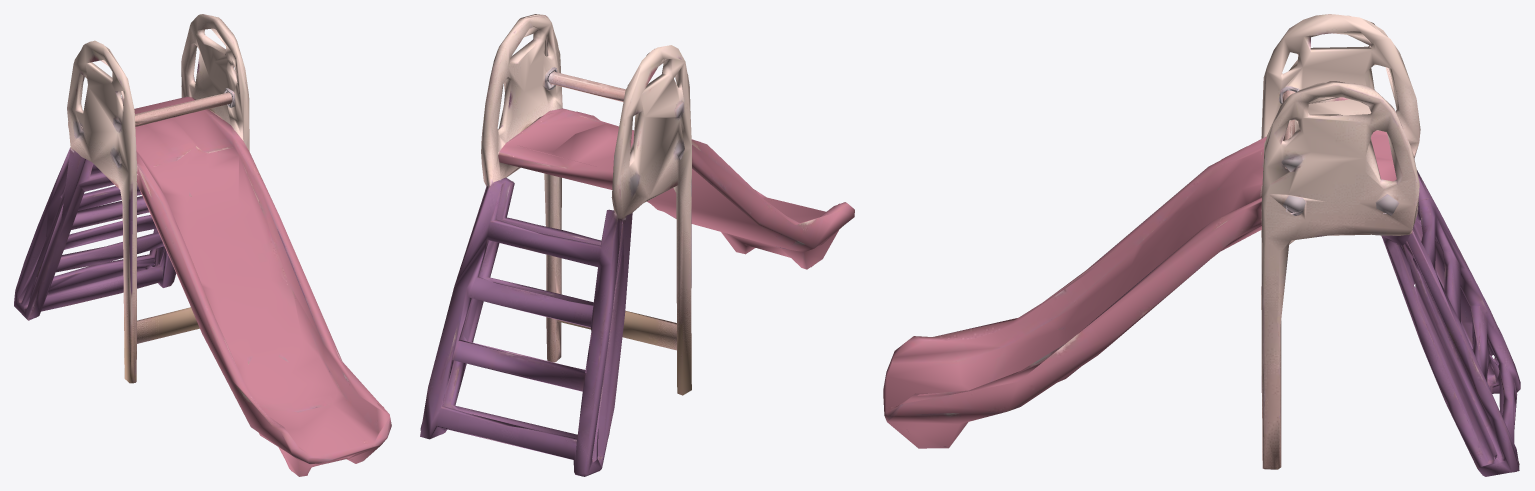
Rendered from pink-slide.glb.
3 renders of one model, left to right at view 1: azimuth 30°, elevation 25°; view 2: azimuth 150°, elevation 25°; view 3: azimuth 270°, elevation 25°, orthographic. The views are drawn at different scales.
Visible parts, largest first — view 1: world; view 2: world; view 3: world.
Boxes of the visible parts, x1,y1,x2,y2 form: world: (14,14,391,476); world: (420,14,854,476); world: (883,14,1520,476).
Size of the model in its own units: 0.3227 by 0.6704 by 1.
Materials: 1 (1 with a texture image).
